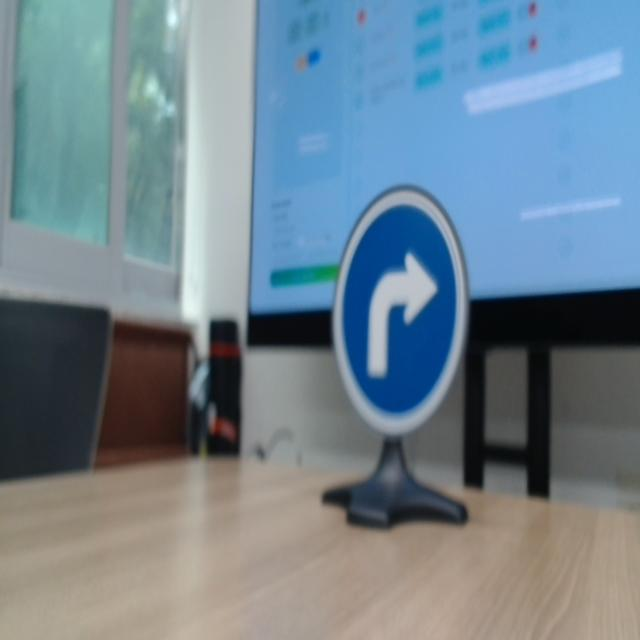right_dierection: (320, 184, 478, 444)
